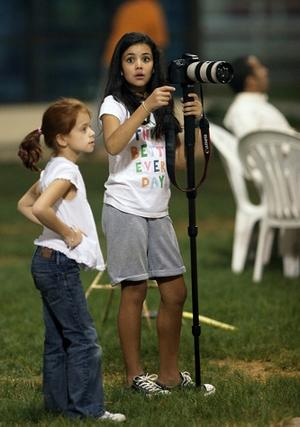person: (100, 32, 216, 399)
